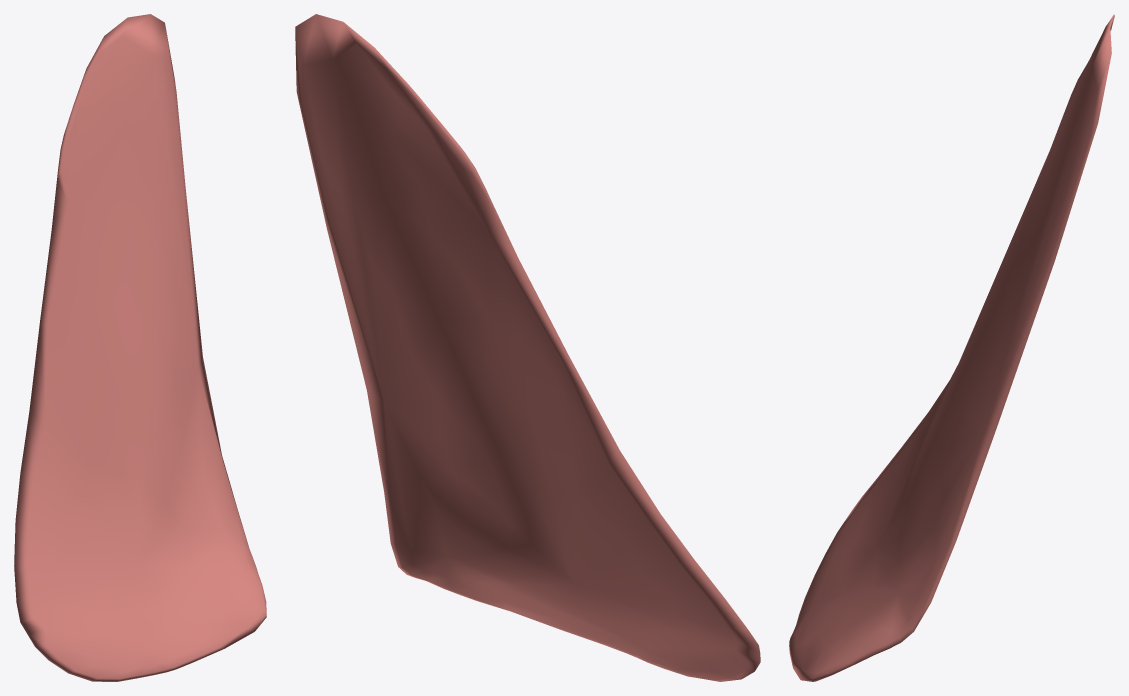
The picture shows the model from 3 angles, left to right: view 1: azimuth 30°, elevation 25°; view 2: azimuth 150°, elevation 25°; view 3: azimuth 270°, elevation 25°; orthographic projection. The views are drawn at different scales.
Visible parts, largest first — view 1: ZA_346c9bc18cd96ee5; view 2: ZA_346c9bc18cd96ee5; view 3: ZA_346c9bc18cd96ee5.
Boxes of the visible parts, x1,y1,x2,y2 form: ZA_346c9bc18cd96ee5: (14,14,266,681); ZA_346c9bc18cd96ee5: (295,14,760,681); ZA_346c9bc18cd96ee5: (789,14,1114,681).
Bounding box in the file's own units: 0.0227 × 0.0475 × 0.0204.
